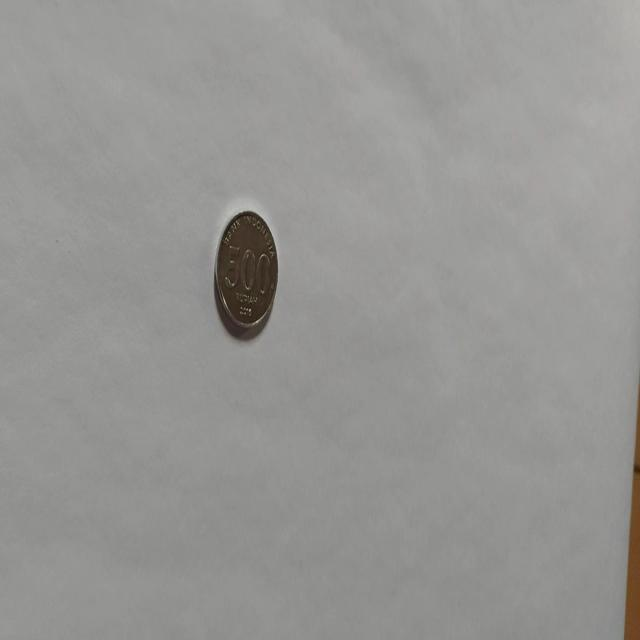lima ratus rupiah: (213, 208, 279, 334)
